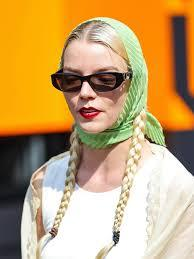sunglasses: (48, 66, 133, 94)
